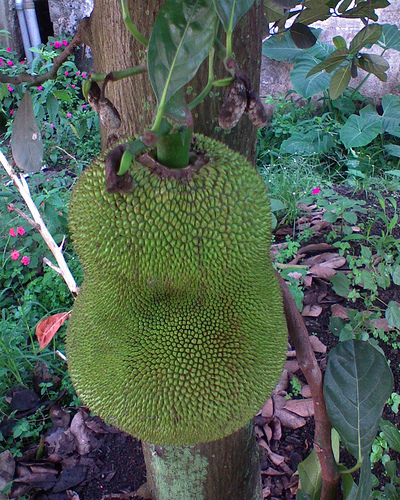jackfruit: (63, 130, 290, 450)
